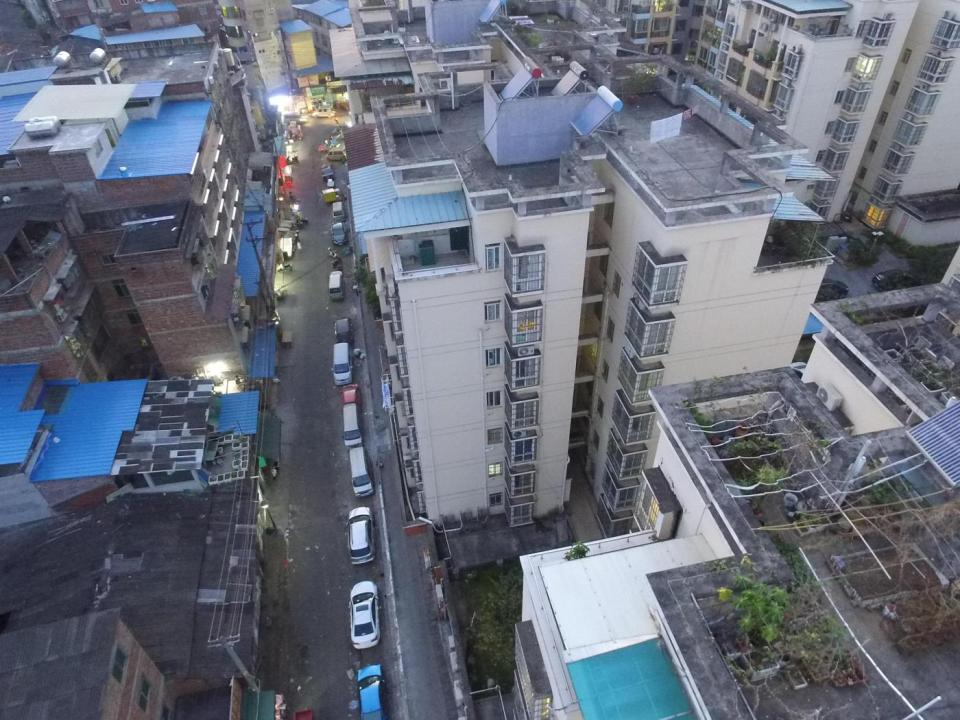car: (349, 580, 381, 651), (346, 506, 376, 566), (357, 663, 387, 720), (340, 382, 361, 407), (330, 221, 348, 245), (321, 162, 335, 180)
van: (348, 446, 374, 498), (332, 342, 354, 386), (344, 403, 364, 450), (333, 318, 355, 344), (328, 271, 345, 301), (325, 145, 347, 162), (312, 104, 335, 117)
